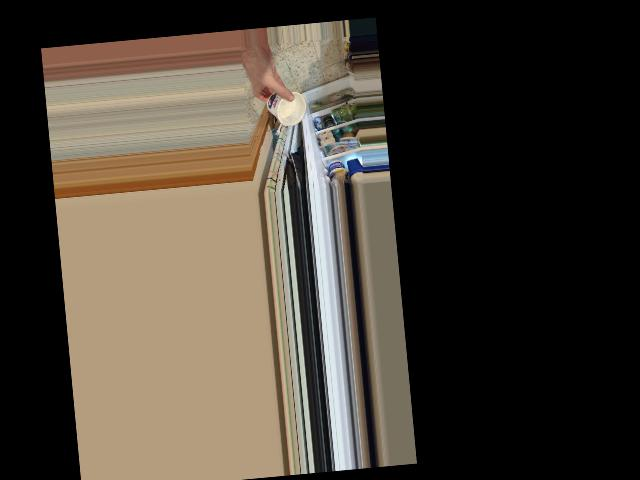cotage: (263, 87, 303, 127)
